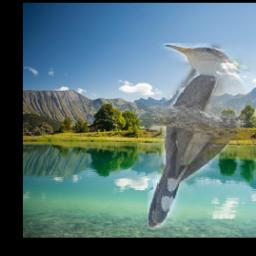Cuckoo: (147, 44, 256, 228)
